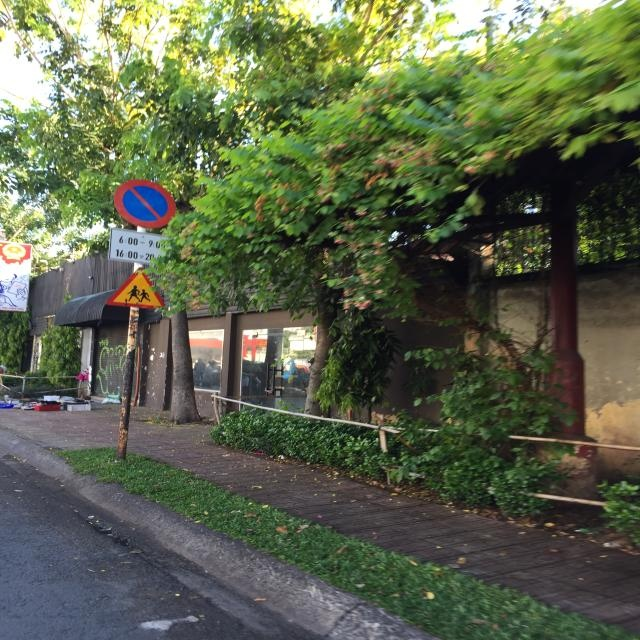bien_nguy_hiem: (112, 179, 174, 230), (108, 266, 166, 308)
